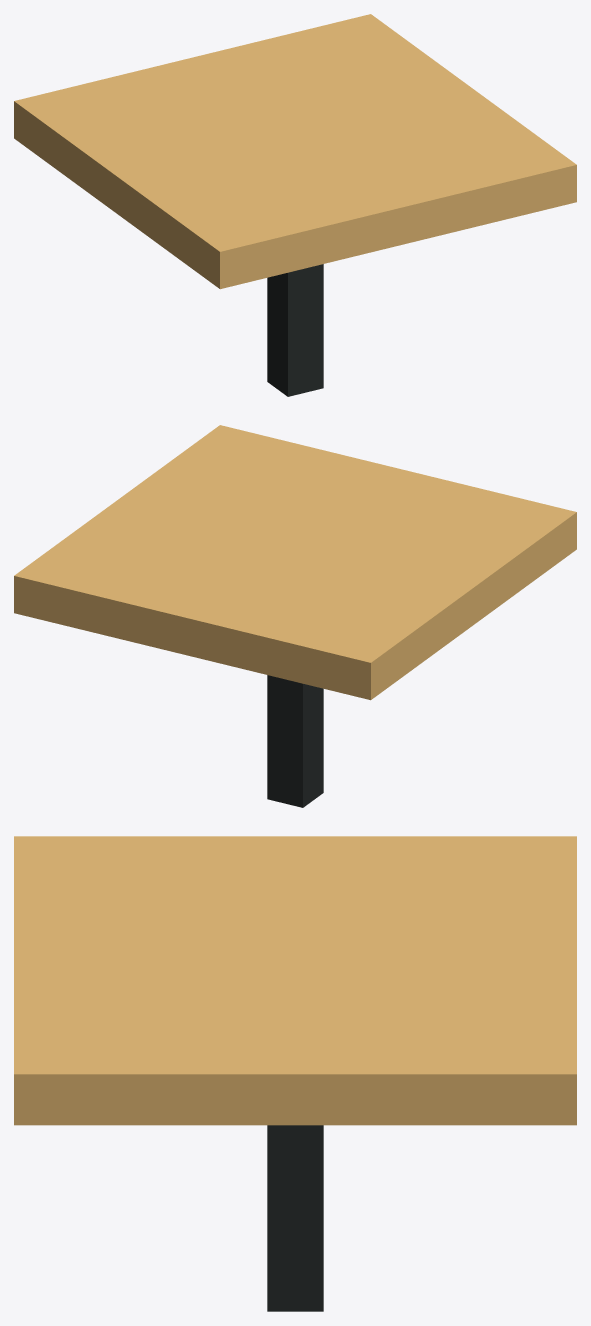
Rendered from table.glb.
3 views of the same model, one above another, from view 1: azimuth 30°, elevation 25°; view 2: azimuth 150°, elevation 25°; view 3: azimuth 270°, elevation 25° (orthographic). The views are drawn at different scales.
Visible parts, largest first — view 1: _MeshInstance3D_449, _MeshInstance3D_450; view 2: _MeshInstance3D_449, _MeshInstance3D_450; view 3: _MeshInstance3D_449, _MeshInstance3D_450.
Boxes of the visible parts, <box> form: _MeshInstance3D_449: <box>14,14,576,289</box>; _MeshInstance3D_450: <box>267,264,323,396</box>; _MeshInstance3D_449: <box>14,425,576,700</box>; _MeshInstance3D_450: <box>267,675,323,807</box>; _MeshInstance3D_449: <box>14,836,576,1125</box>; _MeshInstance3D_450: <box>267,1125,323,1311</box>.
Bounding box in the file's own units: 1.2 × 0.81 × 1.2.
